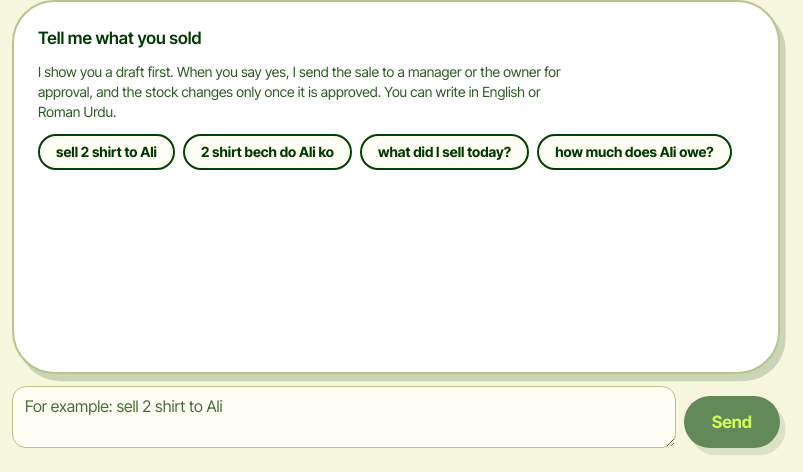
Scenario: Sales chat (PRD F-006) › staff see that a manager must approve, with no buttons and no approvals request
The width and height of the screenshot is (803, 472).
In the text box named "Your message": (344, 417) [12,386,676,448], type "yes"
Then press Enter
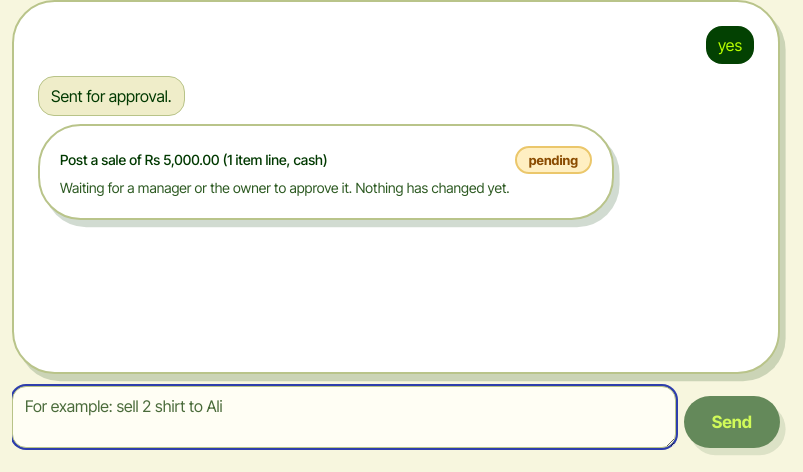
Now the text "Waiting for a manager or the owner to approve it" is shown, box [60,179,510,196]
